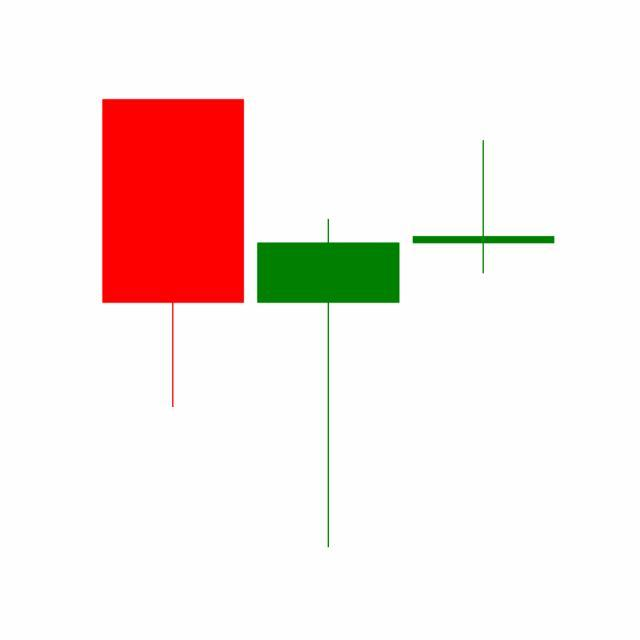Spinning Top: (406, 139, 562, 276)
